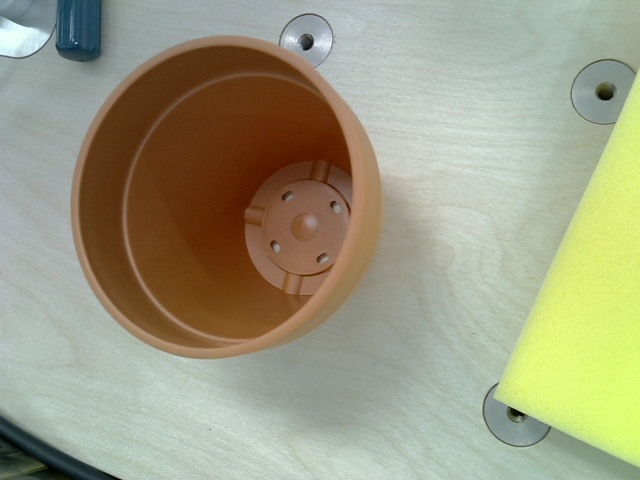화분: (70, 36, 382, 356)
